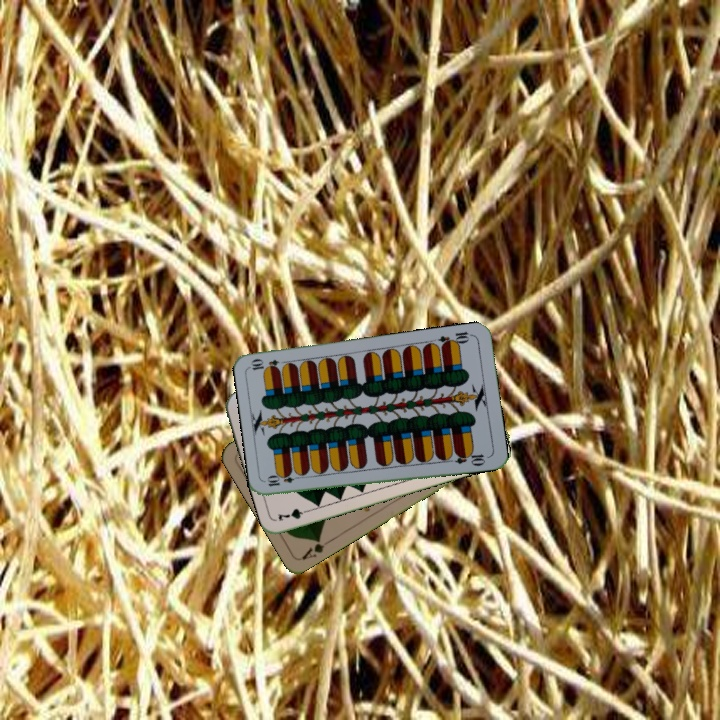E10: (435, 327, 475, 350), (263, 471, 304, 489)
G7: (274, 504, 314, 524)
GA: (298, 534, 334, 562)
